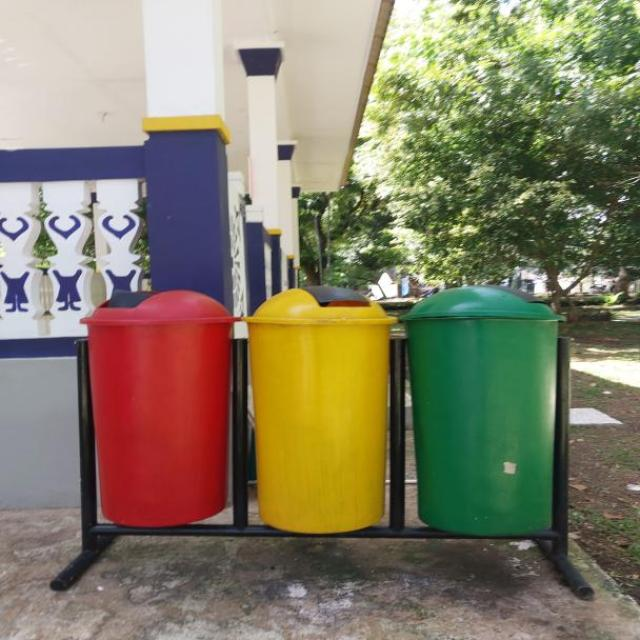dustbin ahead at: (85, 280, 564, 544)
